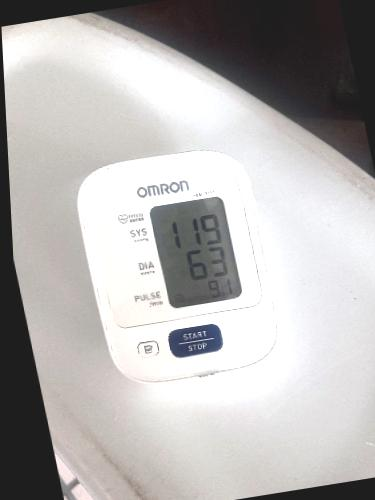bpm: (146, 190, 244, 315)
